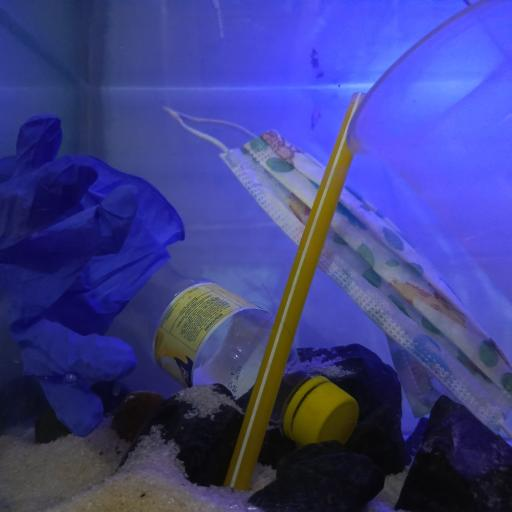bottle_cap: (291, 384, 357, 448)
glove: (0, 113, 186, 440)
mask: (162, 103, 512, 434)
plastic_bottle: (121, 256, 359, 446)
plastic_cup: (343, 0, 512, 373)
plastic_straw: (222, 88, 370, 487)
